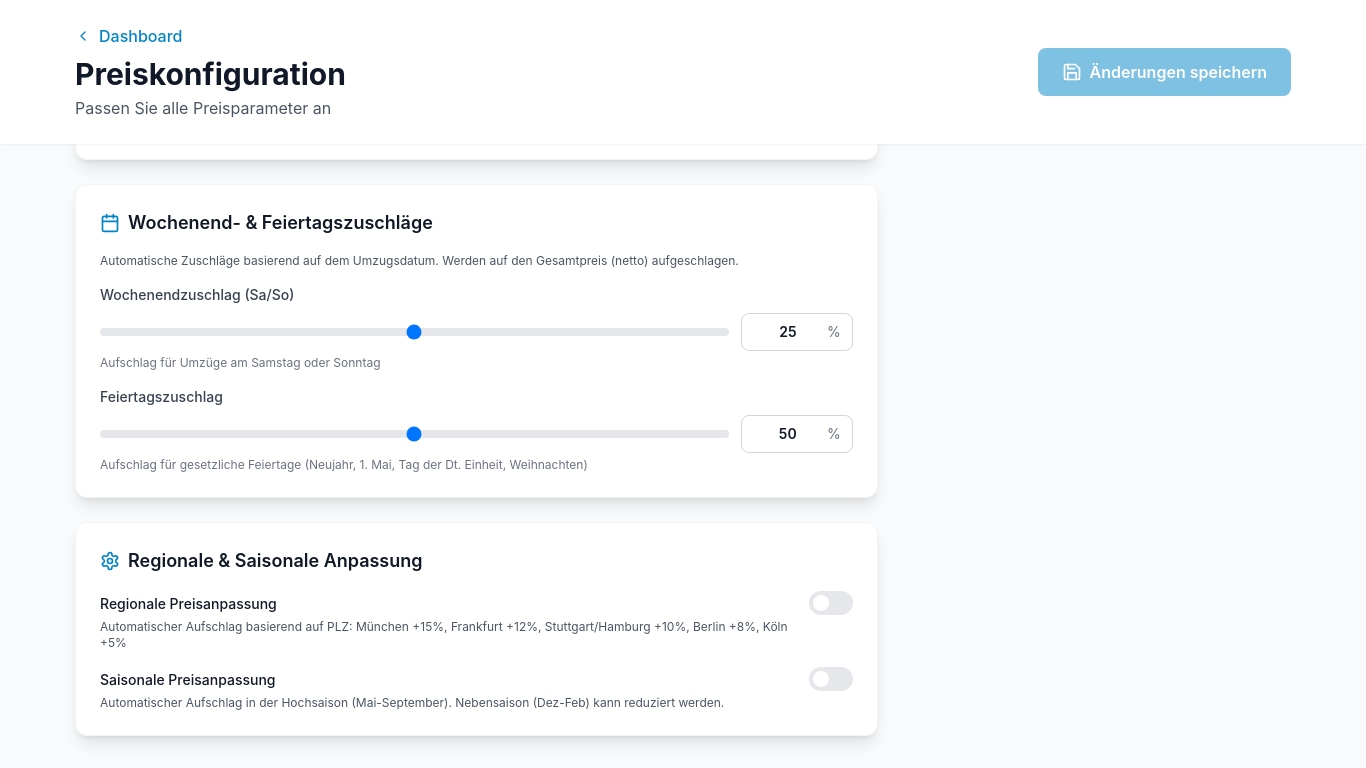
Scenario: Change detection › save button enables and reset appears after a change
(page scrolled)
Click the button without text in the row of "Regionale Preisanpassung": (831, 603) [809, 591, 853, 615]
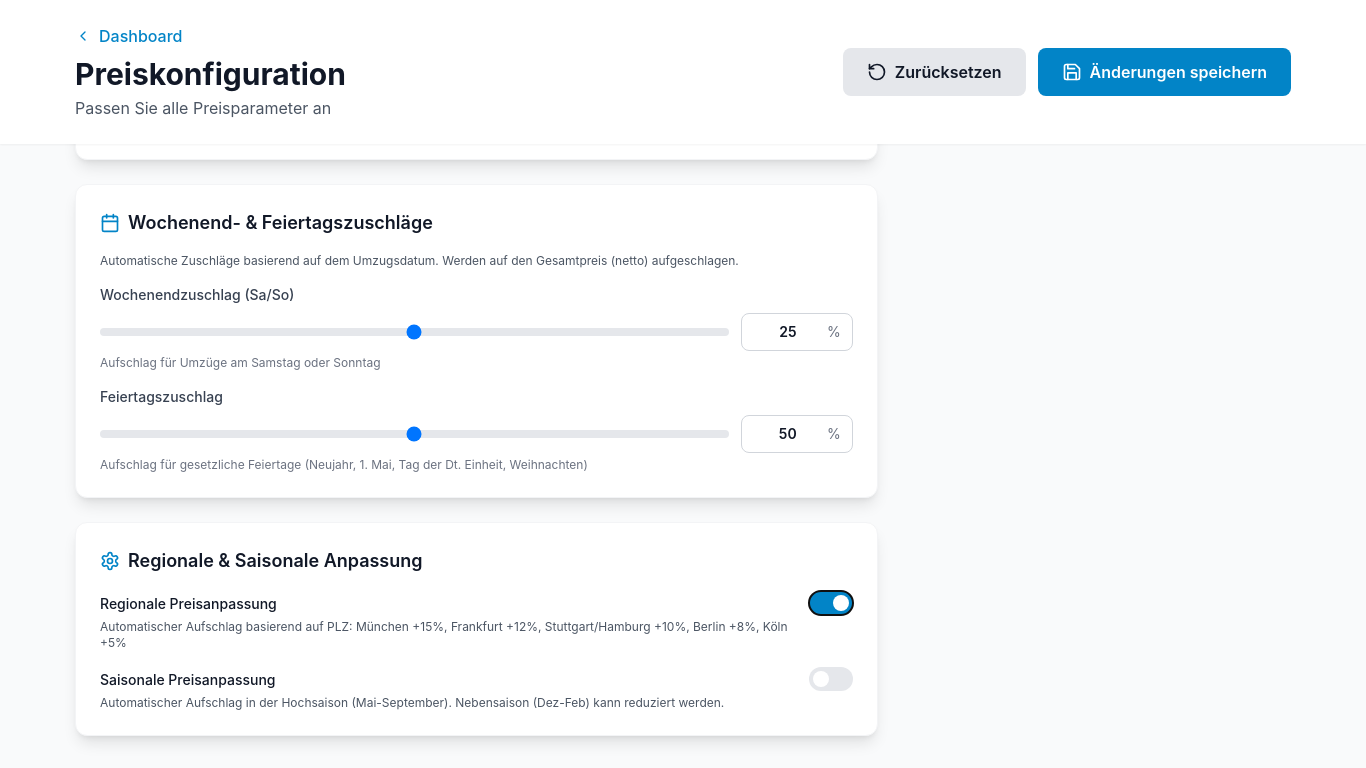
Check: the button "Änderungen speichern" is enabled, box [1038, 48, 1291, 96]
Check: the button "Zurücksetzen" is shown, box [843, 48, 1026, 96]
